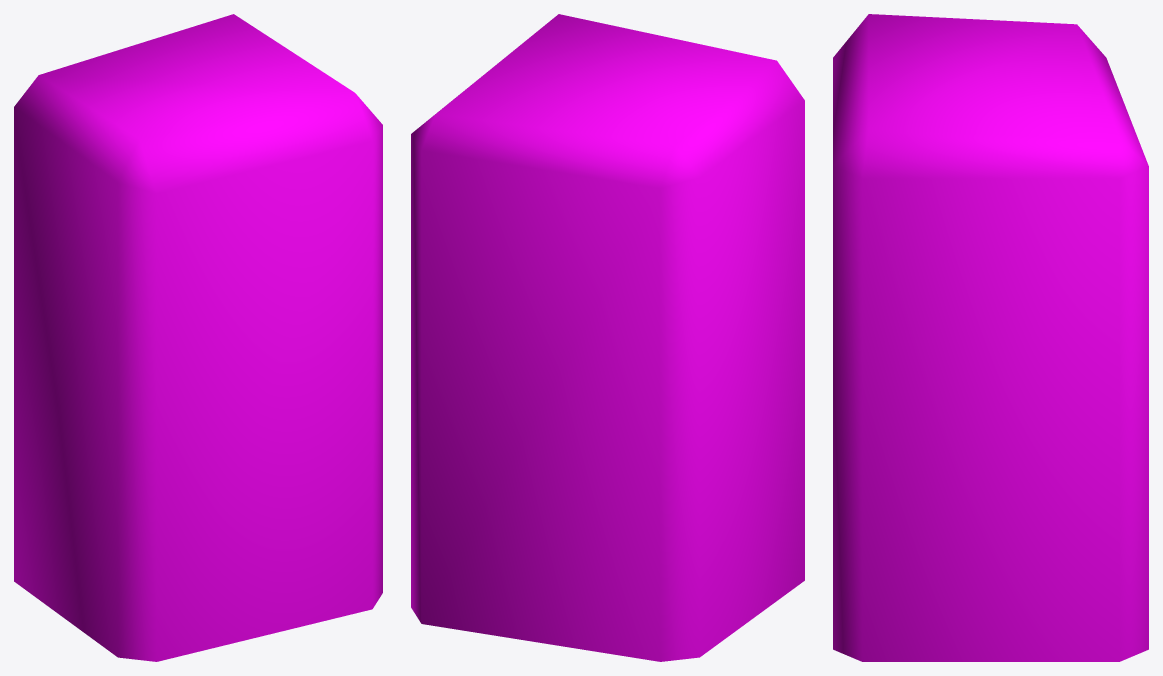
File: stone_cubic_weathered_02.glb
The picture shows the model from 3 angles, left to right: view 1: azimuth 30°, elevation 25°; view 2: azimuth 150°, elevation 25°; view 3: azimuth 270°, elevation 25°; orthographic projection. The views are drawn at different scales.
Visible parts, largest first — view 1: Cube_006-mesh; view 2: Cube_006-mesh; view 3: Cube_006-mesh.
Part boxes in pixels (x1,y1,x2,y2): Cube_006-mesh: [14, 14, 382, 661]; Cube_006-mesh: [411, 14, 804, 661]; Cube_006-mesh: [833, 14, 1148, 661].
Size of the model in its own units: 5.76 by 10.59 by 5.76.
